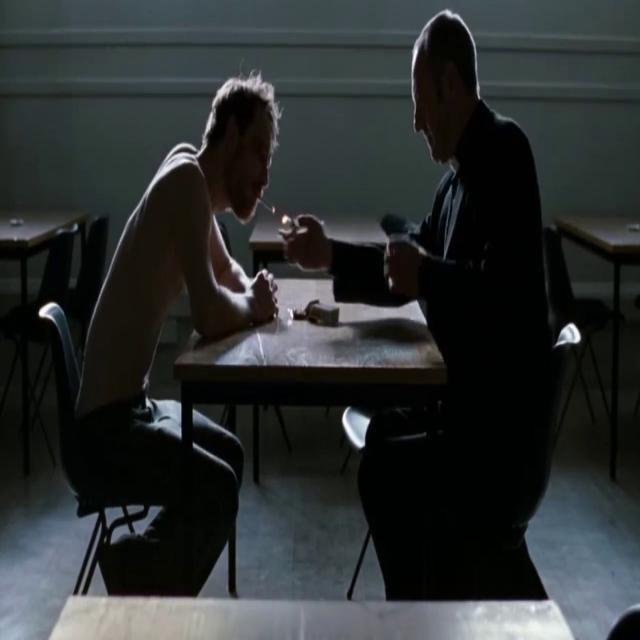Smooking: (259, 188, 281, 222)
